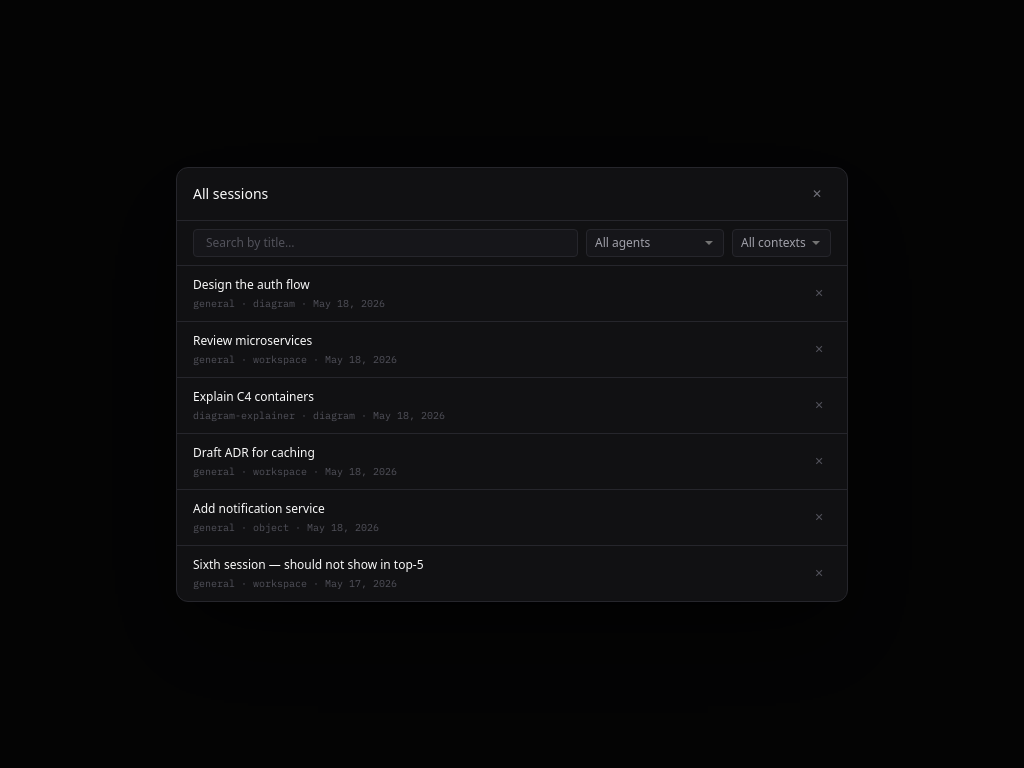
Test: AllSessionsModal › renders all sessions and filters by search text
Expected: the list item with test id "session-list-row-sess-1" is shown, [177,266,847,322]
Expected: the list item with test id "session-list-row-sess-6" is shown, [177,546,847,600]
Search for "auth"
Type "auth" into the field with test id "sessions-search-input" at (386, 242), box [193,228,578,256]
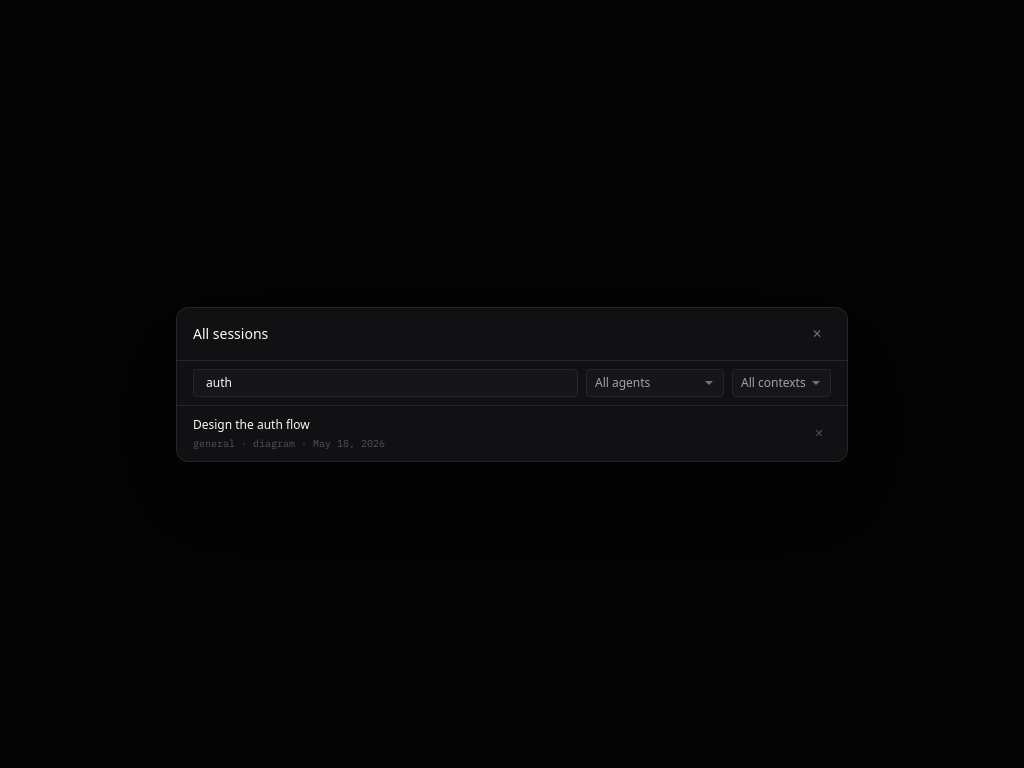
Expected: the list item with test id "session-list-row-sess-1" is shown, [177,406,847,460]
Expected: the list item with test id "session-list-row-sess-2" is gone
